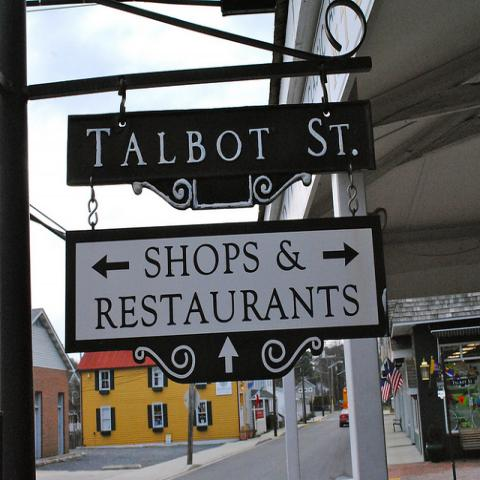car: (266, 413, 284, 429), (340, 410, 349, 428)
